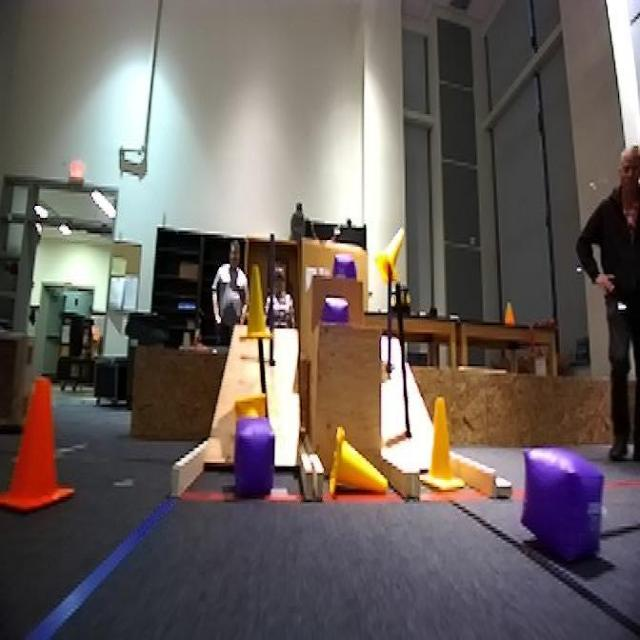frc_cone: (424, 395, 466, 499), (328, 427, 389, 494), (244, 279, 271, 342), (375, 233, 402, 286), (232, 402, 270, 427)
frc_cube: (523, 448, 605, 563), (232, 426, 276, 497), (324, 298, 350, 327), (336, 252, 356, 277)
